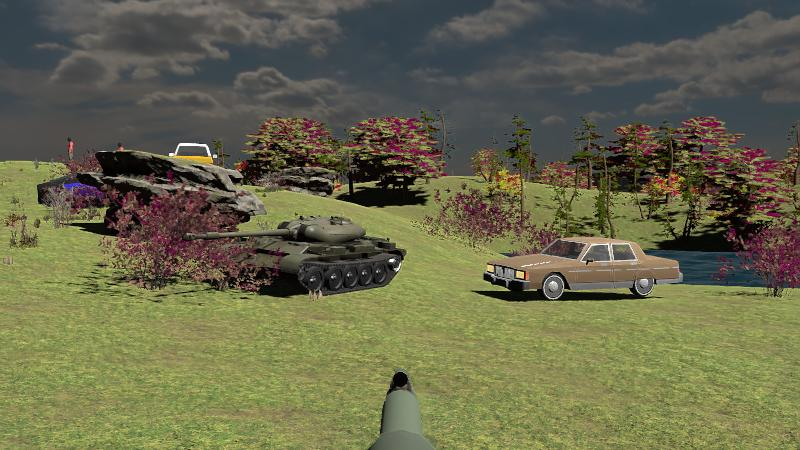Tank: (188, 213, 407, 298)
car: (485, 235, 683, 301)
